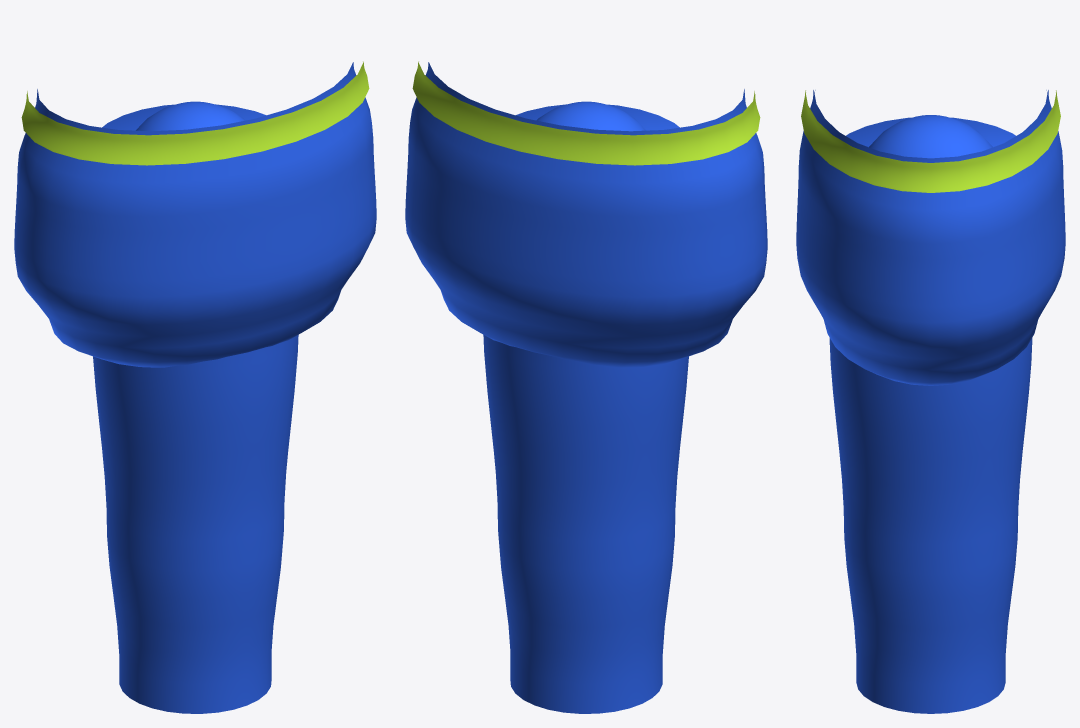
The model's file is bottom_capri_male.glb.
3 renders of one model, left to right at view 1: azimuth 30°, elevation 25°; view 2: azimuth 150°, elevation 25°; view 3: azimuth 270°, elevation 25°, orthographic. The views are drawn at different scales.
Parts seen in each view (by area): view 1: pants, pant_leg, waistband, tight_knee; view 2: pants, pant_leg, waistband, tight_knee; view 3: pant_leg, pants, waistband, tight_knee.
Part boxes in pixels (x1,y1,x2,y2): pants: (14,62,376,367); pant_leg: (93,104,298,713); waistband: (21,61,369,165); tight_knee: (136,101,245,131); pants: (405,62,767,367); pant_leg: (483,104,688,713); waistband: (412,61,760,165); tight_knee: (536,101,645,131); pant_leg: (829,117,1032,713); pants: (796,90,1065,385); waistband: (801,90,1060,192); tight_knee: (869,115,992,158).
Size of the model in its own units: 0.3099 by 0.535 by 0.22.
